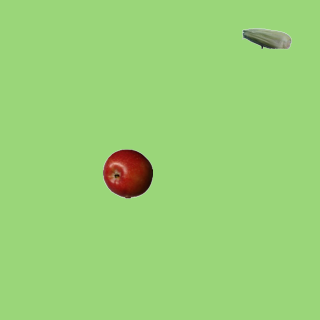Apple Braeburn: (102, 148, 152, 198)
Corn Husk: (241, 13, 291, 63)
